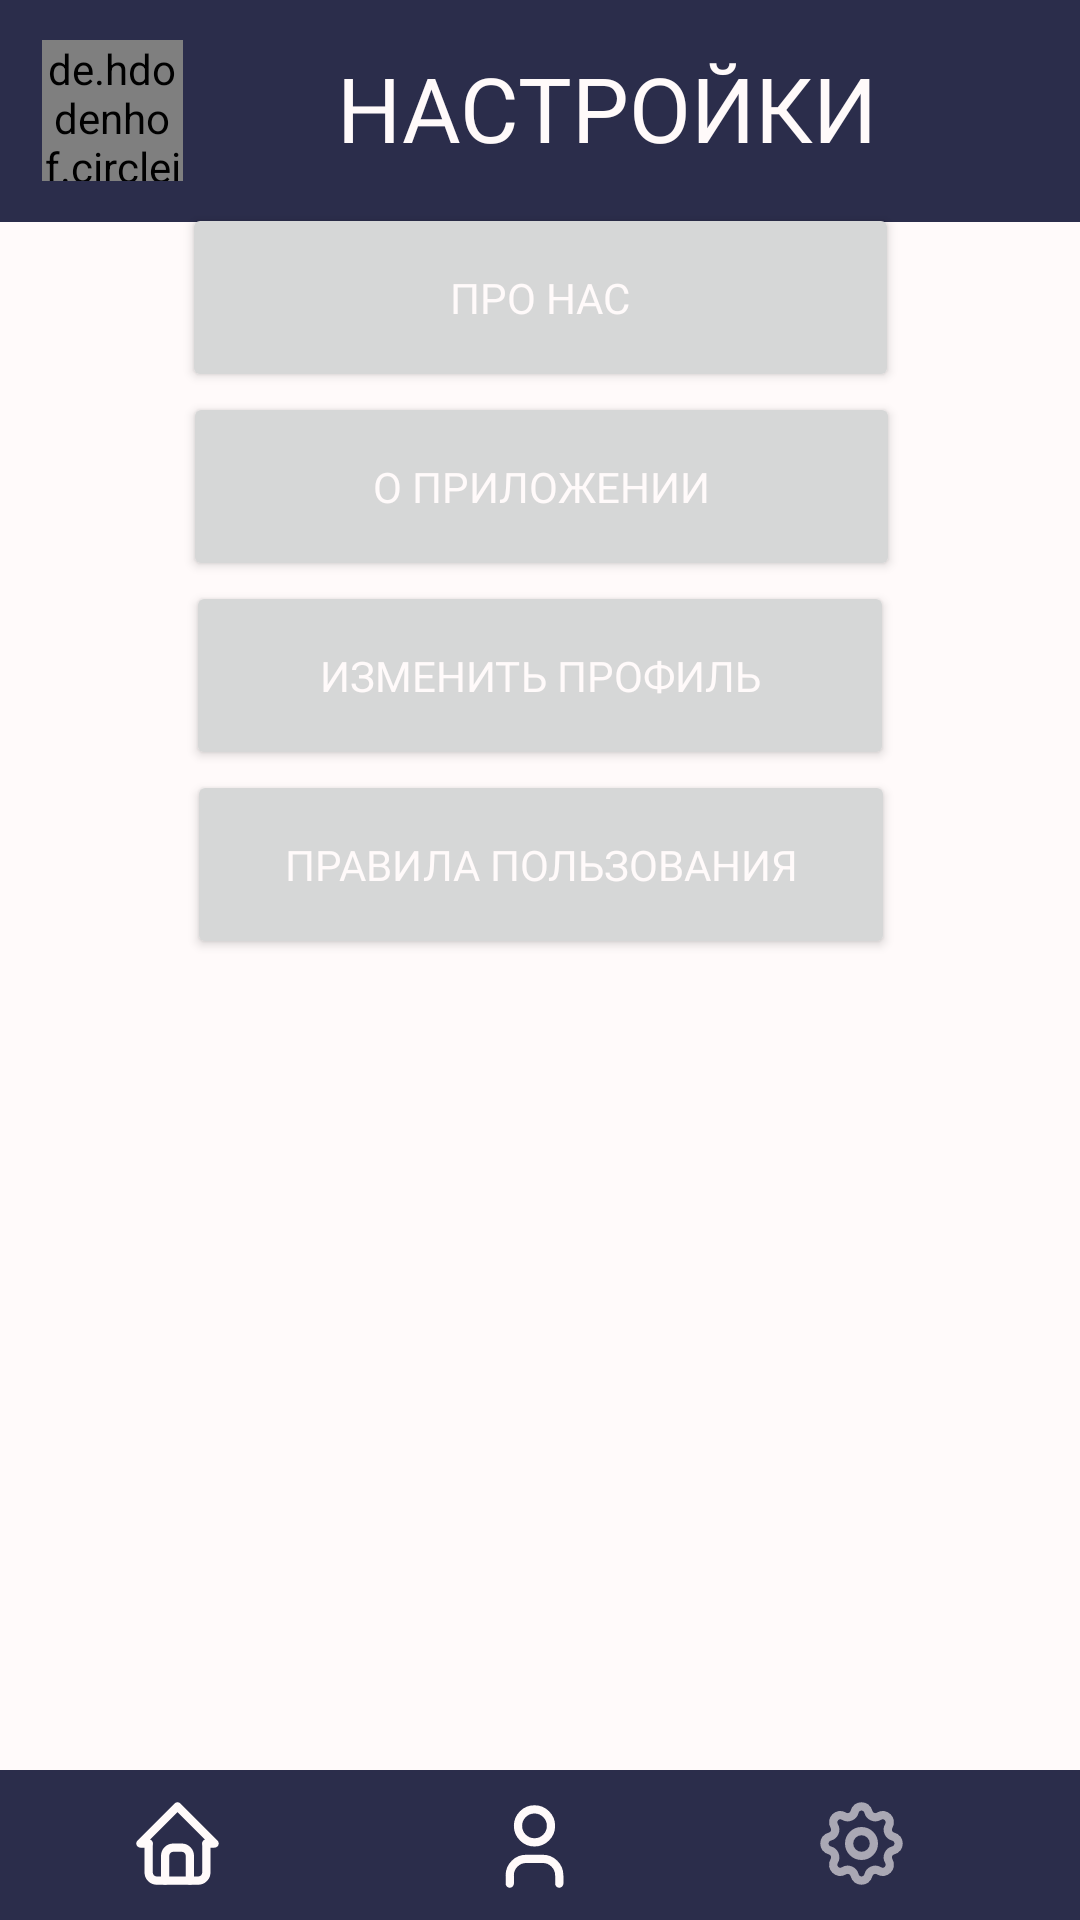

Icons on this 1080 × 1920 Android screen, each with the point to tap as (x=x, y=y):
home: (x=177, y=1843)
settings: (x=861, y=1843)
user: (x=534, y=1846)
